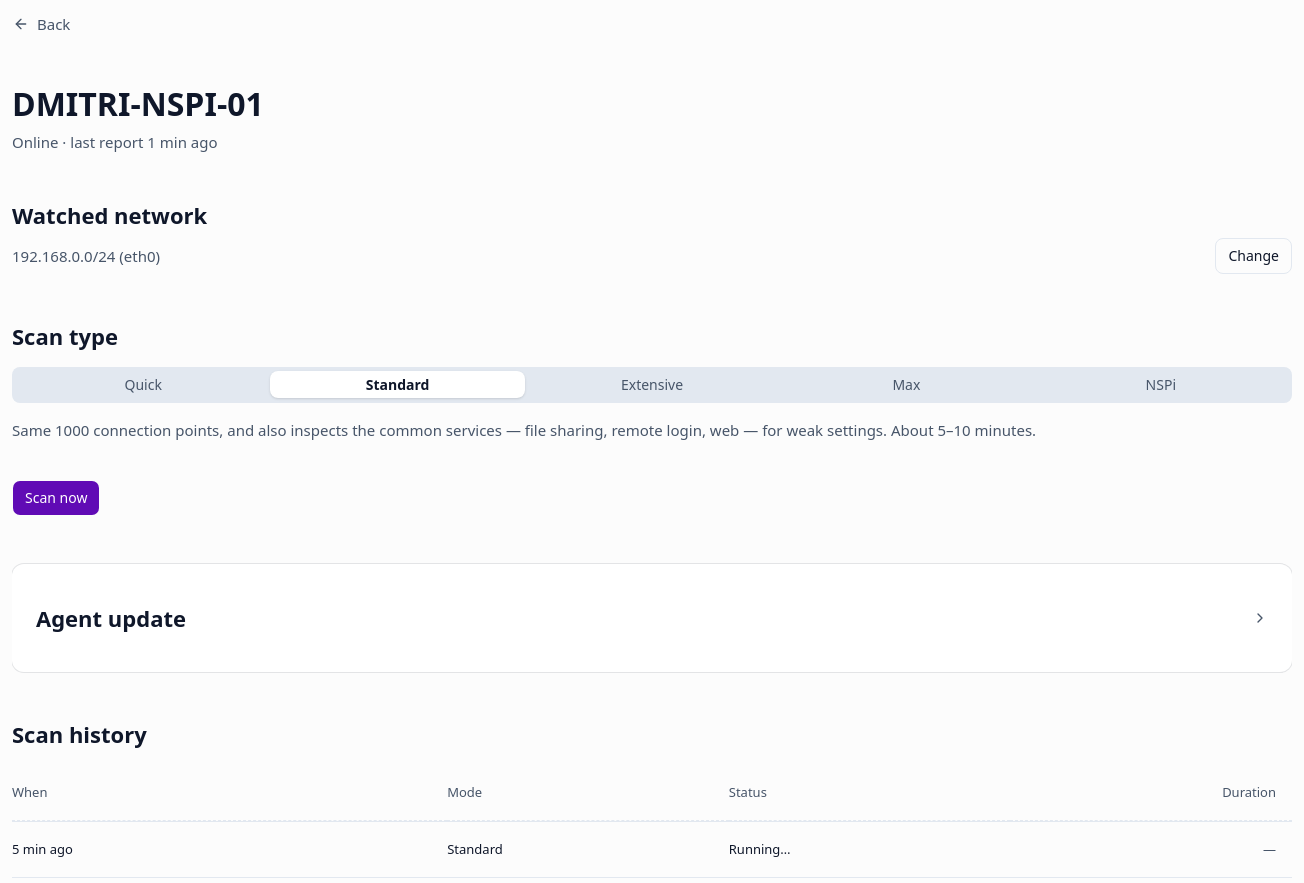
Scenario: DeviceDetail command lifecycle › refusals › adopts a busy command instead of showing an error
Click the button with test id "agents-scan-now".
click(56, 498)  # box [12,480,100,516]
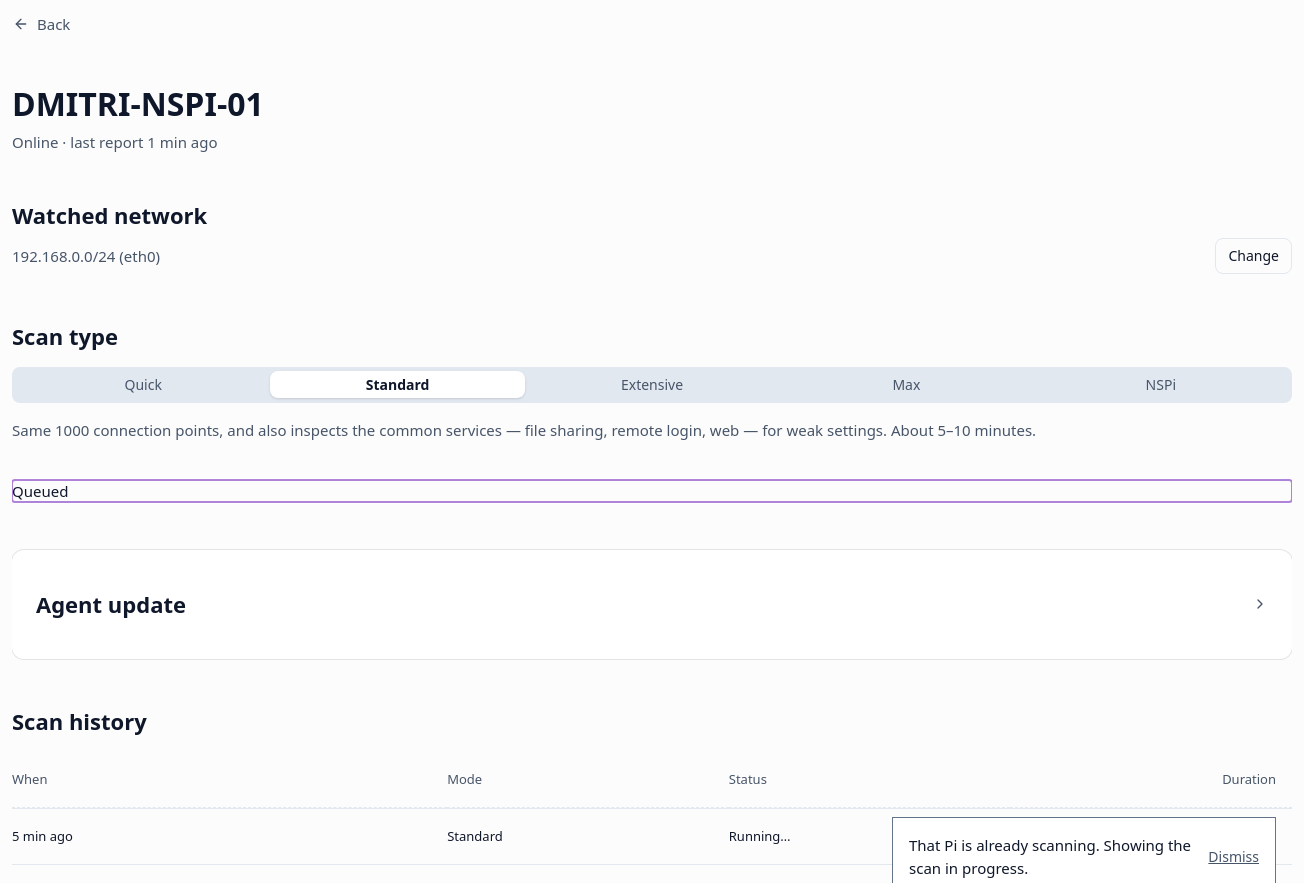
Expected: the text "Queued" is shown, [12,480,68,502]
Expected: the list item with test id "toast" shows "That Pi is already scanning. Showing the scan in progress.", [909,835,1191,878]
